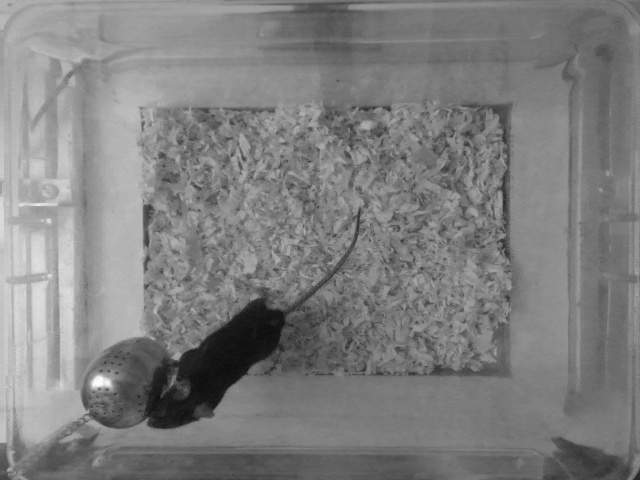mice: (138, 206, 367, 433)
